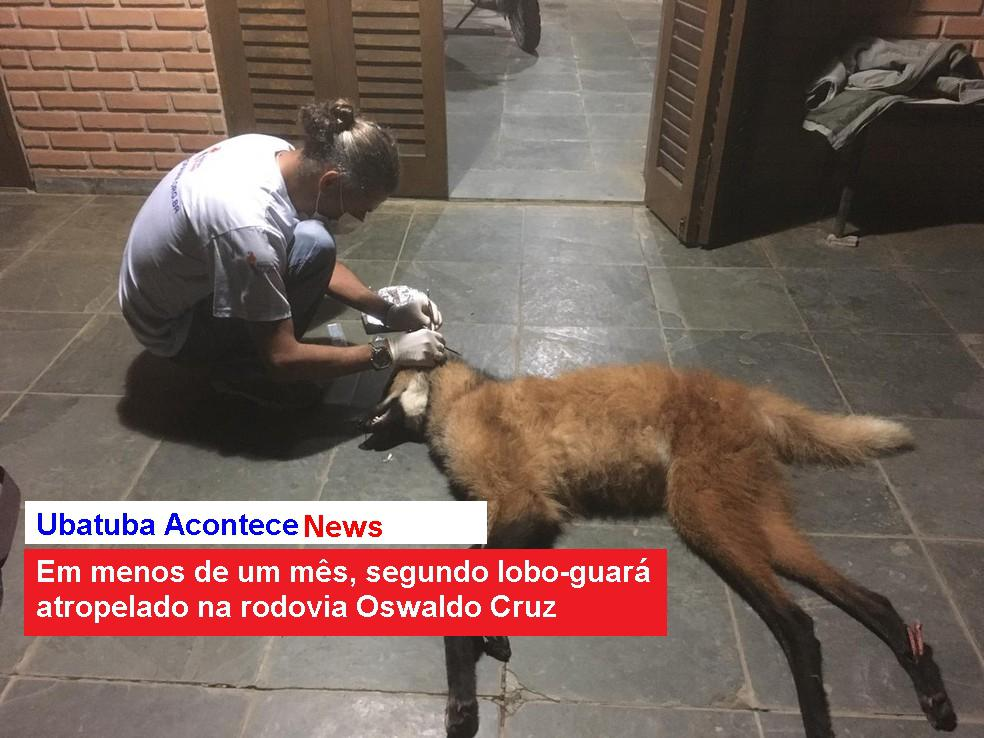LoboGuara: (375, 345, 960, 725)
